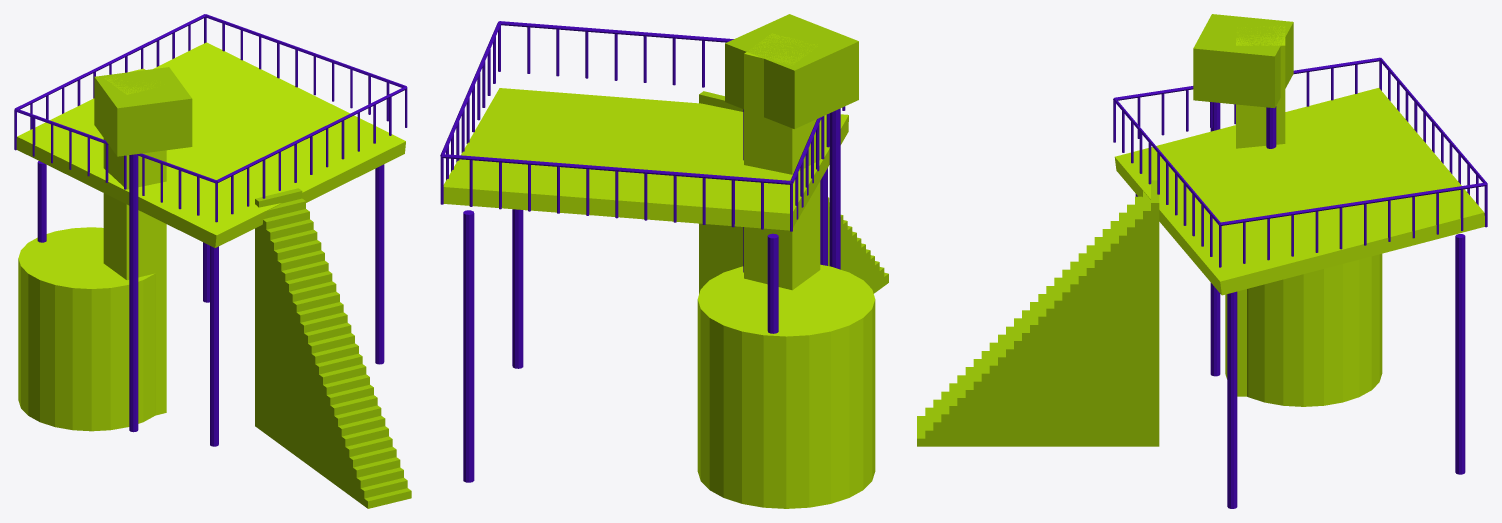
Rendered from folie_tag_011.glb.
3 renders of one model, left to right at view 1: azimuth 30°, elevation 25°; view 2: azimuth 150°, elevation 25°; view 3: azimuth 270°, elevation 25°, orthographic. The views are drawn at different scales.
Visible parts, largest first — view 1: folie_tag_011_00_plate, folie_tag_011_stairs, folie_tag_011_01_drum, folie_tag_011_line, folie_tag_011_02_block, folie_tag_011_core; view 2: folie_tag_011_01_drum, folie_tag_011_00_plate, folie_tag_011_line, folie_tag_011_02_block, folie_tag_011_core, folie_tag_011_stairs; view 3: folie_tag_011_00_plate, folie_tag_011_stairs, folie_tag_011_01_drum, folie_tag_011_line, folie_tag_011_02_block, folie_tag_011_core.
Boxes of the visible parts, box(x1,y1,x2,y2) form: folie_tag_011_00_plate: box(16, 42, 405, 247); folie_tag_011_stairs: box(255, 188, 411, 508); folie_tag_011_01_drum: box(18, 227, 155, 431); folie_tag_011_line: box(14, 14, 407, 446); folie_tag_011_02_block: box(94, 67, 192, 156); folie_tag_011_core: box(103, 68, 166, 415); folie_tag_011_01_drum: box(697, 264, 875, 508); folie_tag_011_00_plate: box(443, 88, 848, 230); folie_tag_011_line: box(440, 21, 845, 482); folie_tag_011_02_block: box(725, 14, 858, 128); folie_tag_011_core: box(744, 33, 820, 290); folie_tag_011_stairs: box(699, 91, 888, 293); folie_tag_011_00_plate: box(1114, 88, 1484, 295); folie_tag_011_stairs: box(917, 180, 1159, 446); folie_tag_011_01_drum: box(1225, 254, 1382, 406); folie_tag_011_line: box(1113, 57, 1487, 508); folie_tag_011_02_block: box(1193, 14, 1293, 108); folie_tag_011_core: box(1236, 25, 1285, 396).
Bounding box in the file's own units: 9.39 × 8.64 × 12.73.
